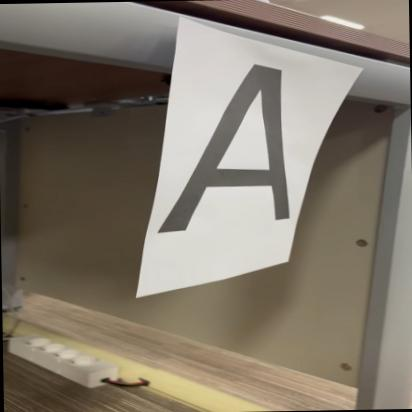seat: (148, 55, 294, 243)
